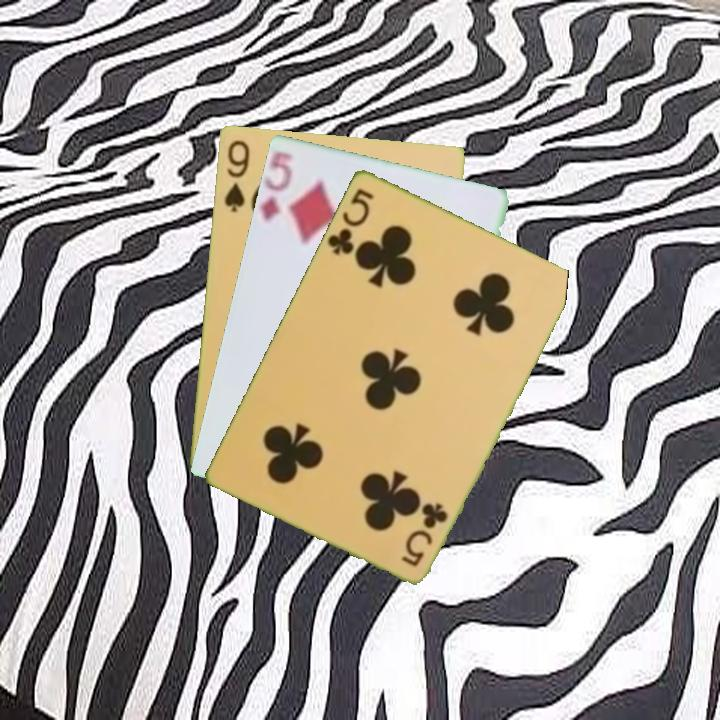5c: (324, 184, 376, 258), (397, 498, 451, 569)
5d: (256, 151, 295, 225)
9s: (220, 136, 252, 215)
